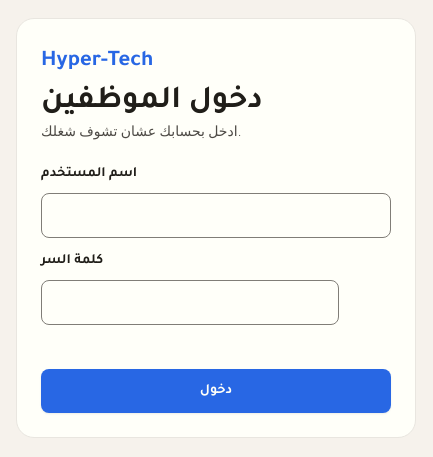
Test case: Login › الحقول الفاضية: ما بيبعتش طلب
Click the button "دخول". click: (216, 390)
box: 41,368 -> 391,412
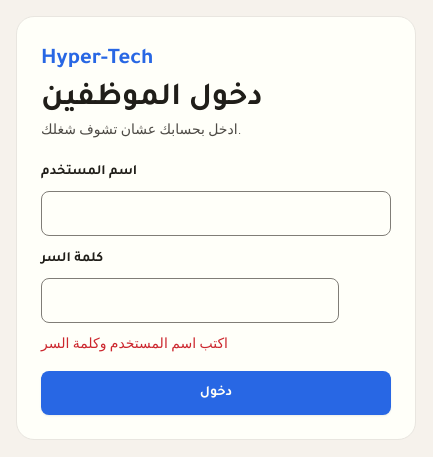
Check: the text "اكتب اسم المستخدم وكلمة السر" is shown, box 41,339 -> 228,353
